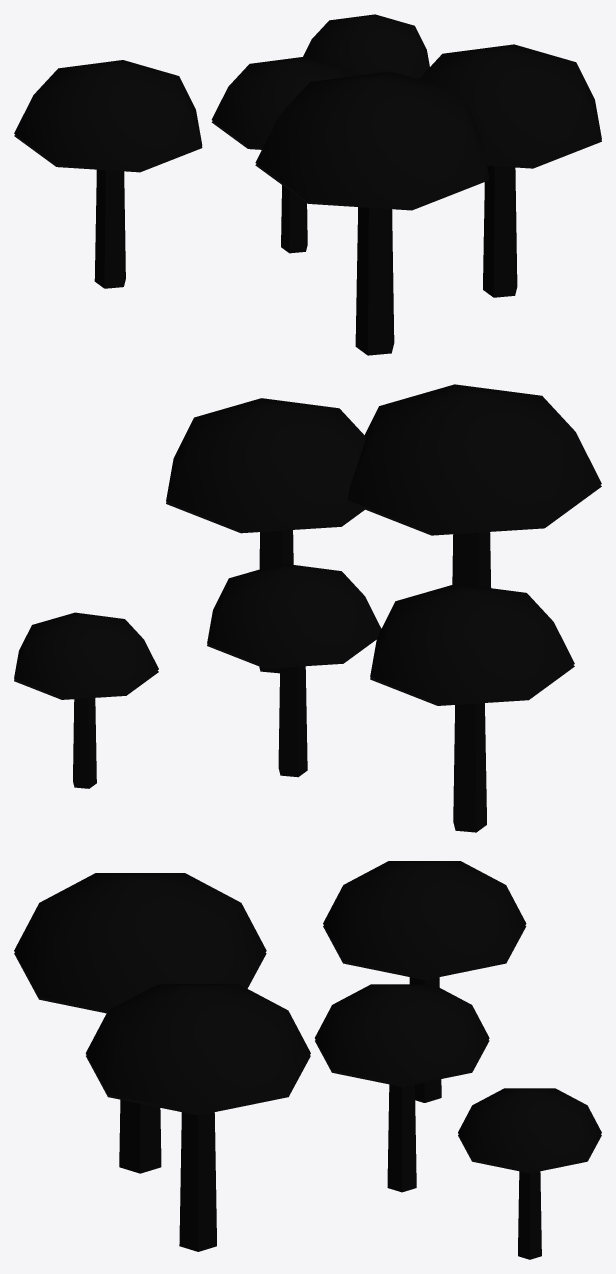
The model's file is SM_mushrooms_red.fbx.
The picture shows the model from 3 angles, top to bottom: view 1: azimuth 30°, elevation 25°; view 2: azimuth 150°, elevation 25°; view 3: azimuth 270°, elevation 25°; orthographic projection. The views are drawn at different scales.
Parts seen in each view (by area): view 1: mushrooms_red; view 2: mushrooms_red; view 3: mushrooms_red.
Boxes of the visible parts, left/top/right/bottom form: mushrooms_red: left=14, top=14, right=601, bottom=355; mushrooms_red: left=14, top=384, right=601, bottom=832; mushrooms_red: left=14, top=861, right=601, bottom=1259.
Size of the model in its own units: 0.3931 by 0.221 by 0.4128.
